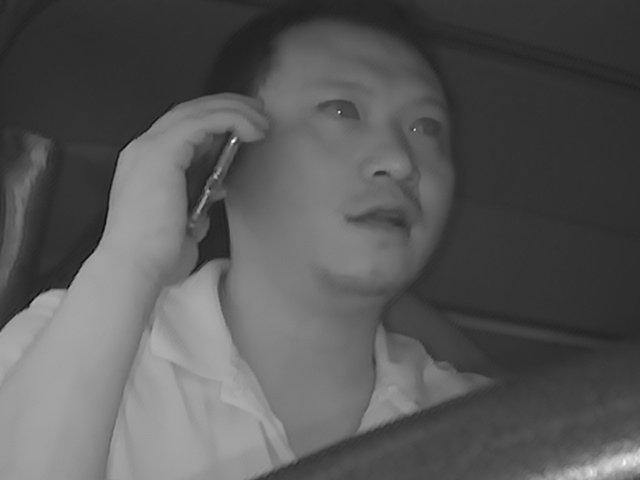hand: (97, 92, 235, 275)
